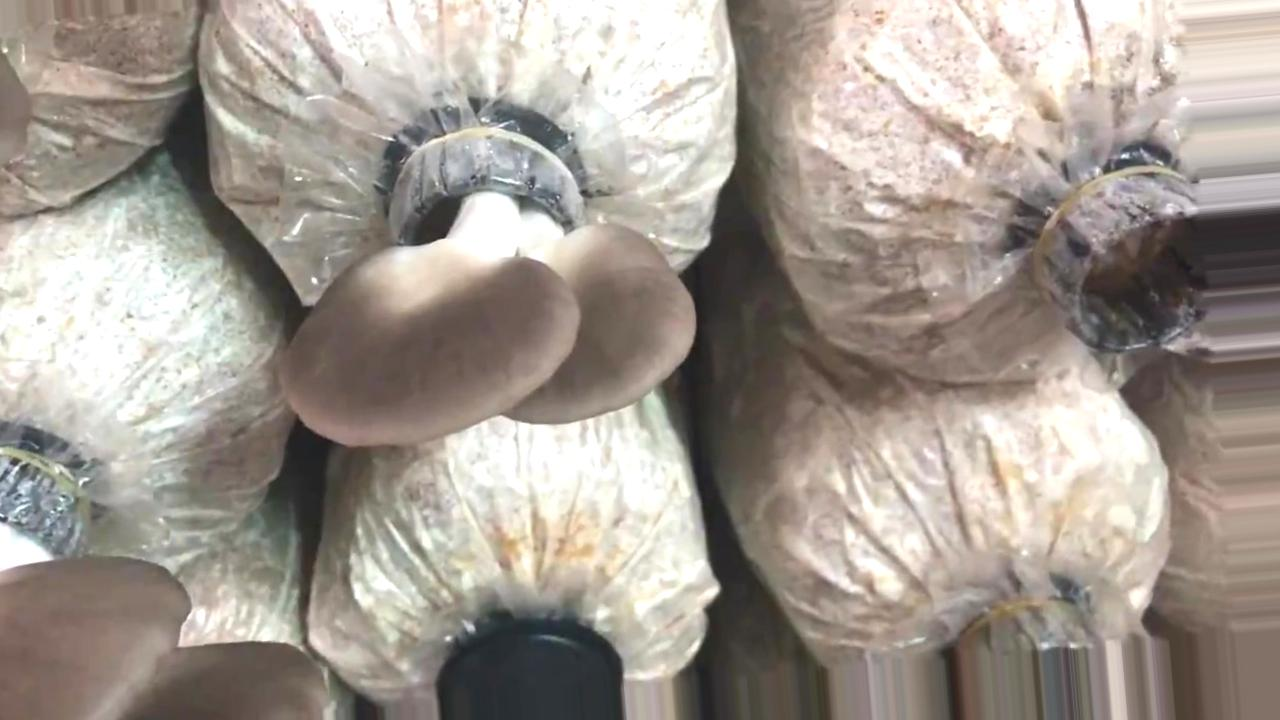nam: (282, 106, 699, 450), (1, 427, 328, 718)
